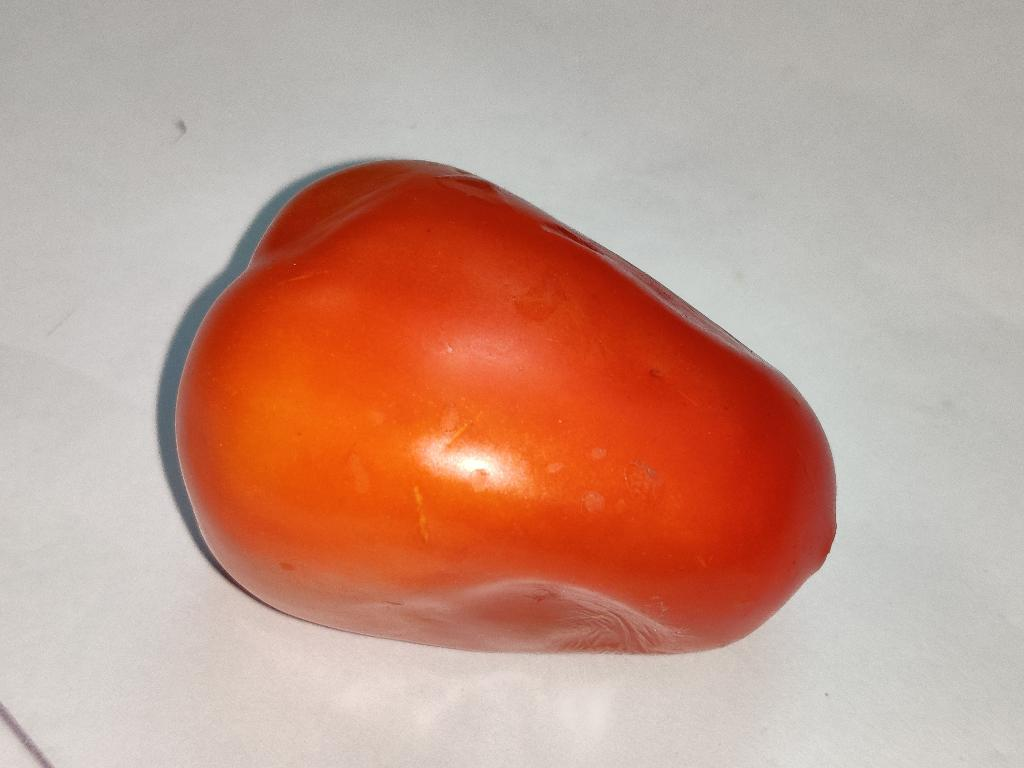bruise_discoloration: (421, 588, 685, 657)
tomato: (177, 161, 835, 653)
